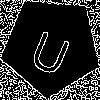U: (26, 21, 77, 78)
